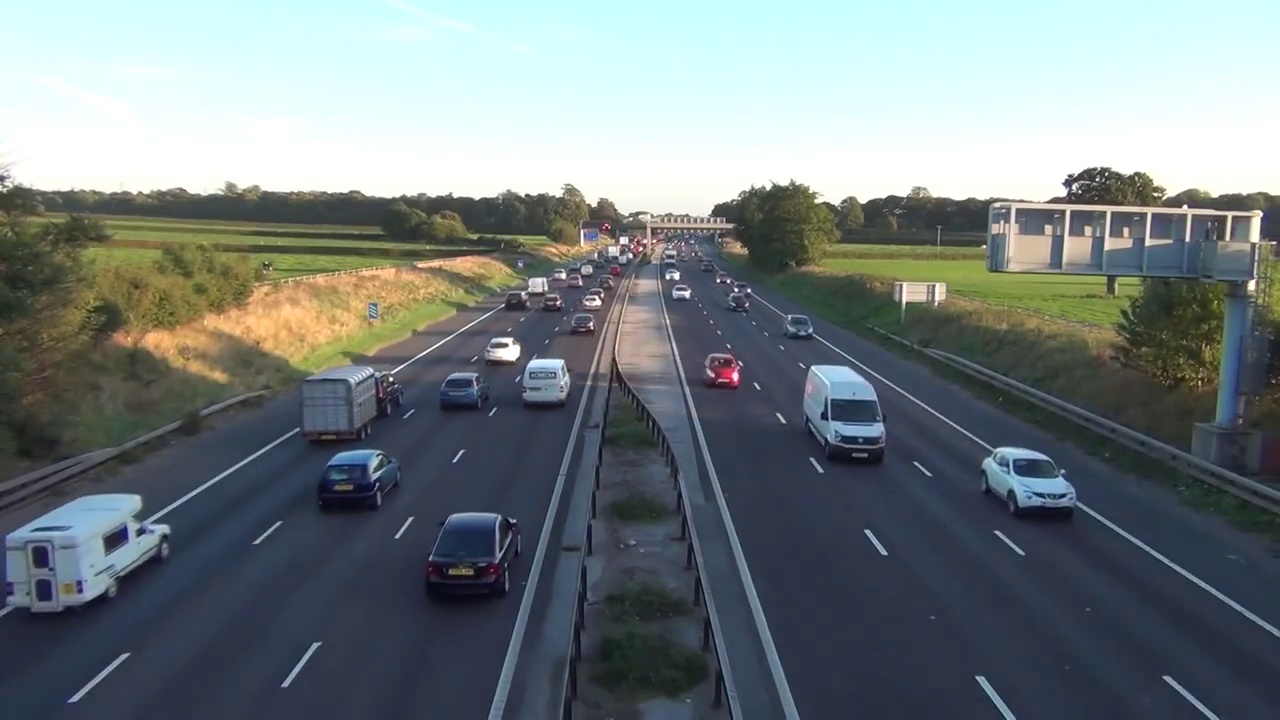bus: (4, 492, 172, 614), (426, 513, 523, 601), (802, 365, 887, 463), (979, 446, 1074, 519), (317, 450, 403, 511), (522, 358, 571, 409), (439, 371, 491, 410), (375, 373, 404, 419), (703, 354, 739, 388), (485, 337, 521, 365), (783, 314, 813, 339), (571, 314, 595, 334), (505, 291, 529, 311), (540, 294, 563, 312), (727, 295, 750, 312), (671, 283, 691, 301), (582, 295, 602, 309), (733, 281, 750, 295), (664, 268, 680, 281), (715, 273, 730, 285)
